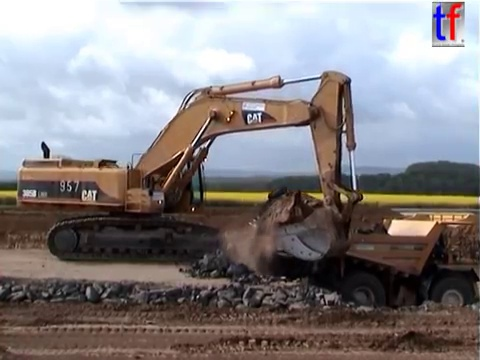excavator: (14, 67, 368, 266)
truck: (247, 207, 480, 326)
